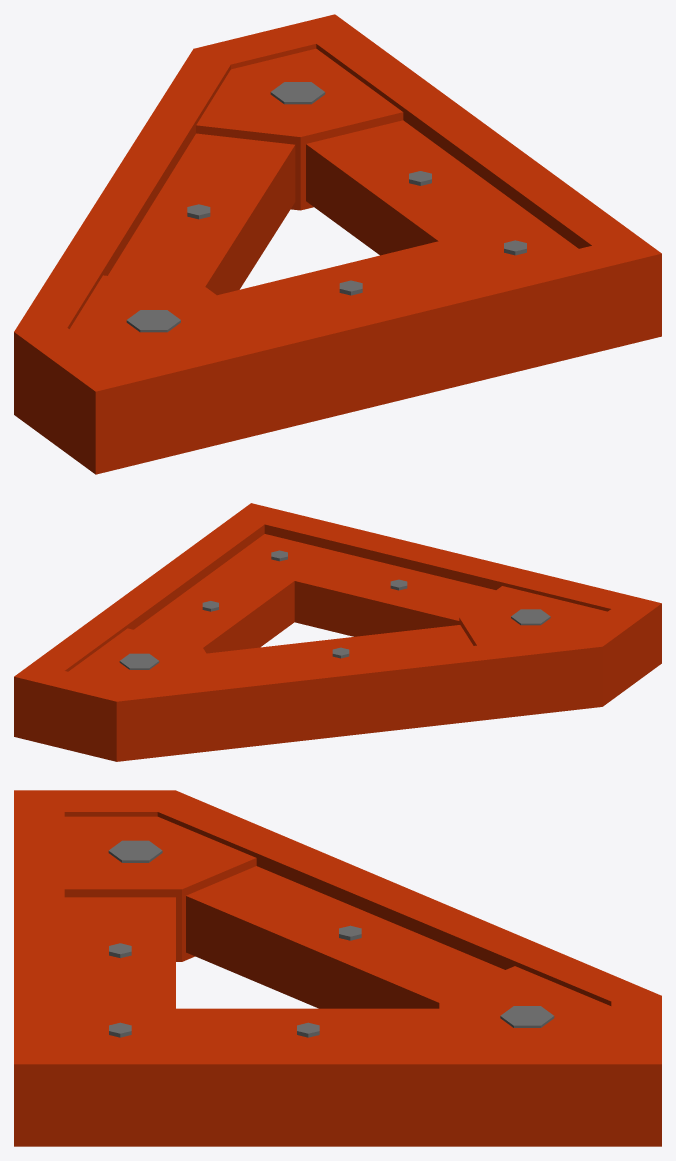
Rendered from Prop_Industrial_Beams_Brace_03.FBX.
3 views of the same model, one above another, from view 1: azimuth 30°, elevation 25°; view 2: azimuth 150°, elevation 25°; view 3: azimuth 270°, elevation 25° (orthographic). The views are drawn at different scales.
Parts seen in each view (by area): view 1: Prop_Industrial_Beams_Brace_03; view 2: Prop_Industrial_Beams_Brace_03; view 3: Prop_Industrial_Beams_Brace_03.
Part boxes in pixels (box(x1,y1,x2,y2)): Prop_Industrial_Beams_Brace_03: box(14, 14, 661, 474); Prop_Industrial_Beams_Brace_03: box(14, 503, 661, 761); Prop_Industrial_Beams_Brace_03: box(14, 790, 661, 1146).
Bounding box in the file's own units: 2000 × 280 × 2000.
